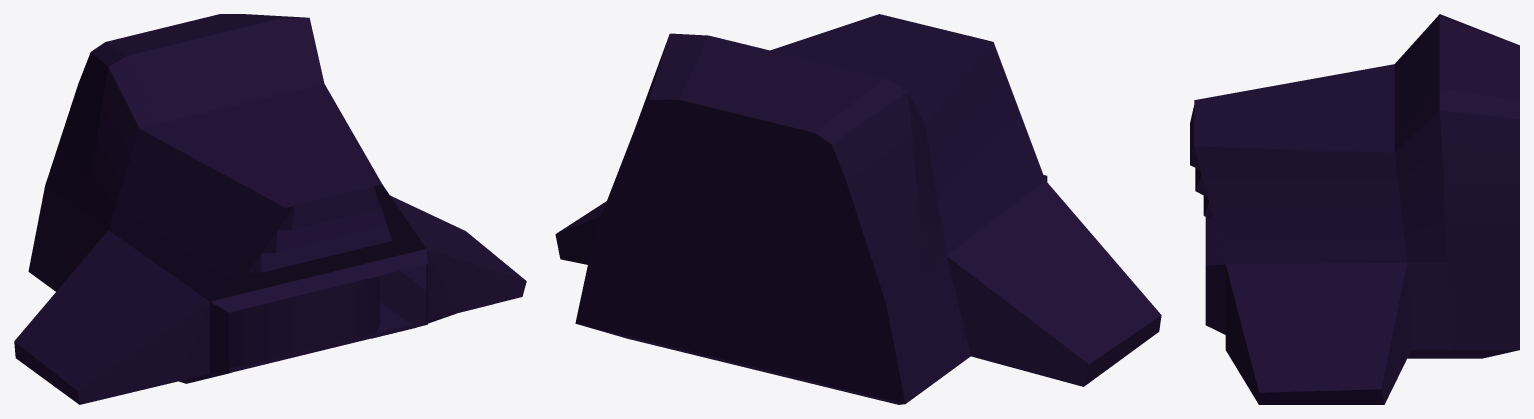
File: cabin_v2.fbx
3 renders of one model, left to right at view 1: azimuth 30°, elevation 25°; view 2: azimuth 150°, elevation 25°; view 3: azimuth 270°, elevation 25°, orthographic. The views are drawn at different scales.
Parts seen in each view (by area): view 1: cabin; view 2: cabin; view 3: cabin.
Part boxes in pixels (<box>): cabin: <box>14,14,526,404</box>; cabin: <box>555,14,1161,404</box>; cabin: <box>1190,14,1519,404</box>.
Size of the model in its own units: 448 by 240 by 289.
